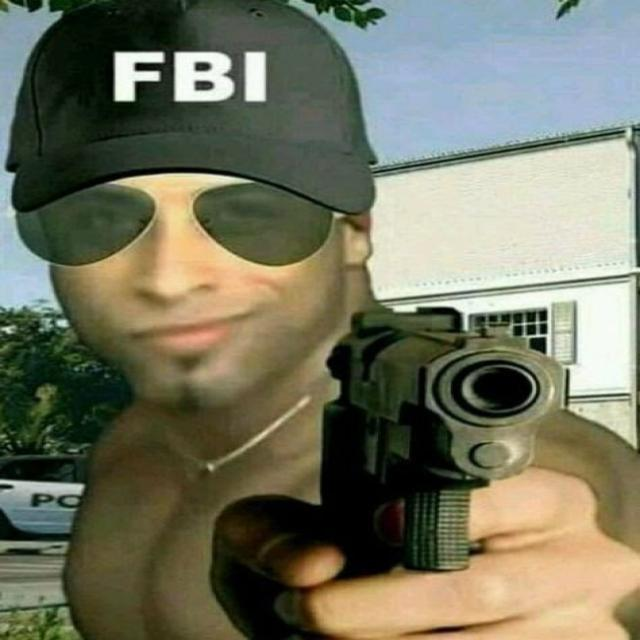handgun: (322, 306, 558, 572)
